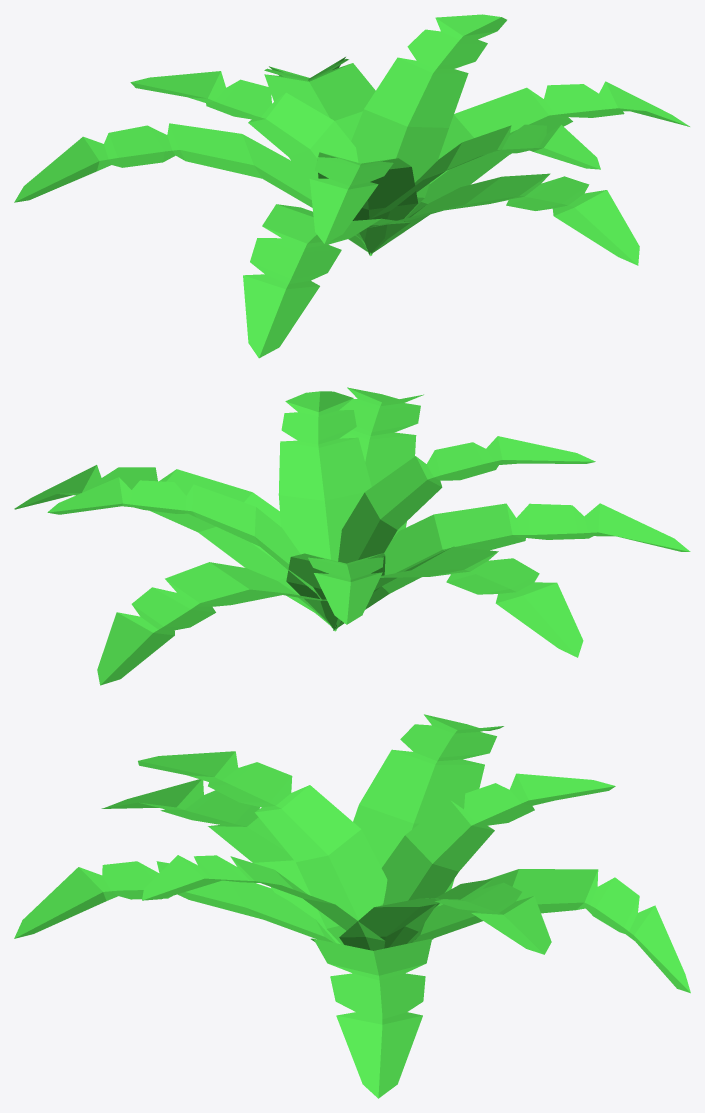
File: fern1.fbx
3 renders of one model, top to bottom at view 1: azimuth 30°, elevation 25°; view 2: azimuth 150°, elevation 25°; view 3: azimuth 270°, elevation 25°, orthographic. The views are drawn at different scales.
Visible parts, largest first — view 1: Plane.011; view 2: Plane.011; view 3: Plane.011.
Boxes of the visible parts, x1,y1,x2,y2 form: Plane.011: (14,14,689,358); Plane.011: (14,387,690,685); Plane.011: (14,714,690,1098).
Size of the model in its own units: 130 by 30.59 by 114.
